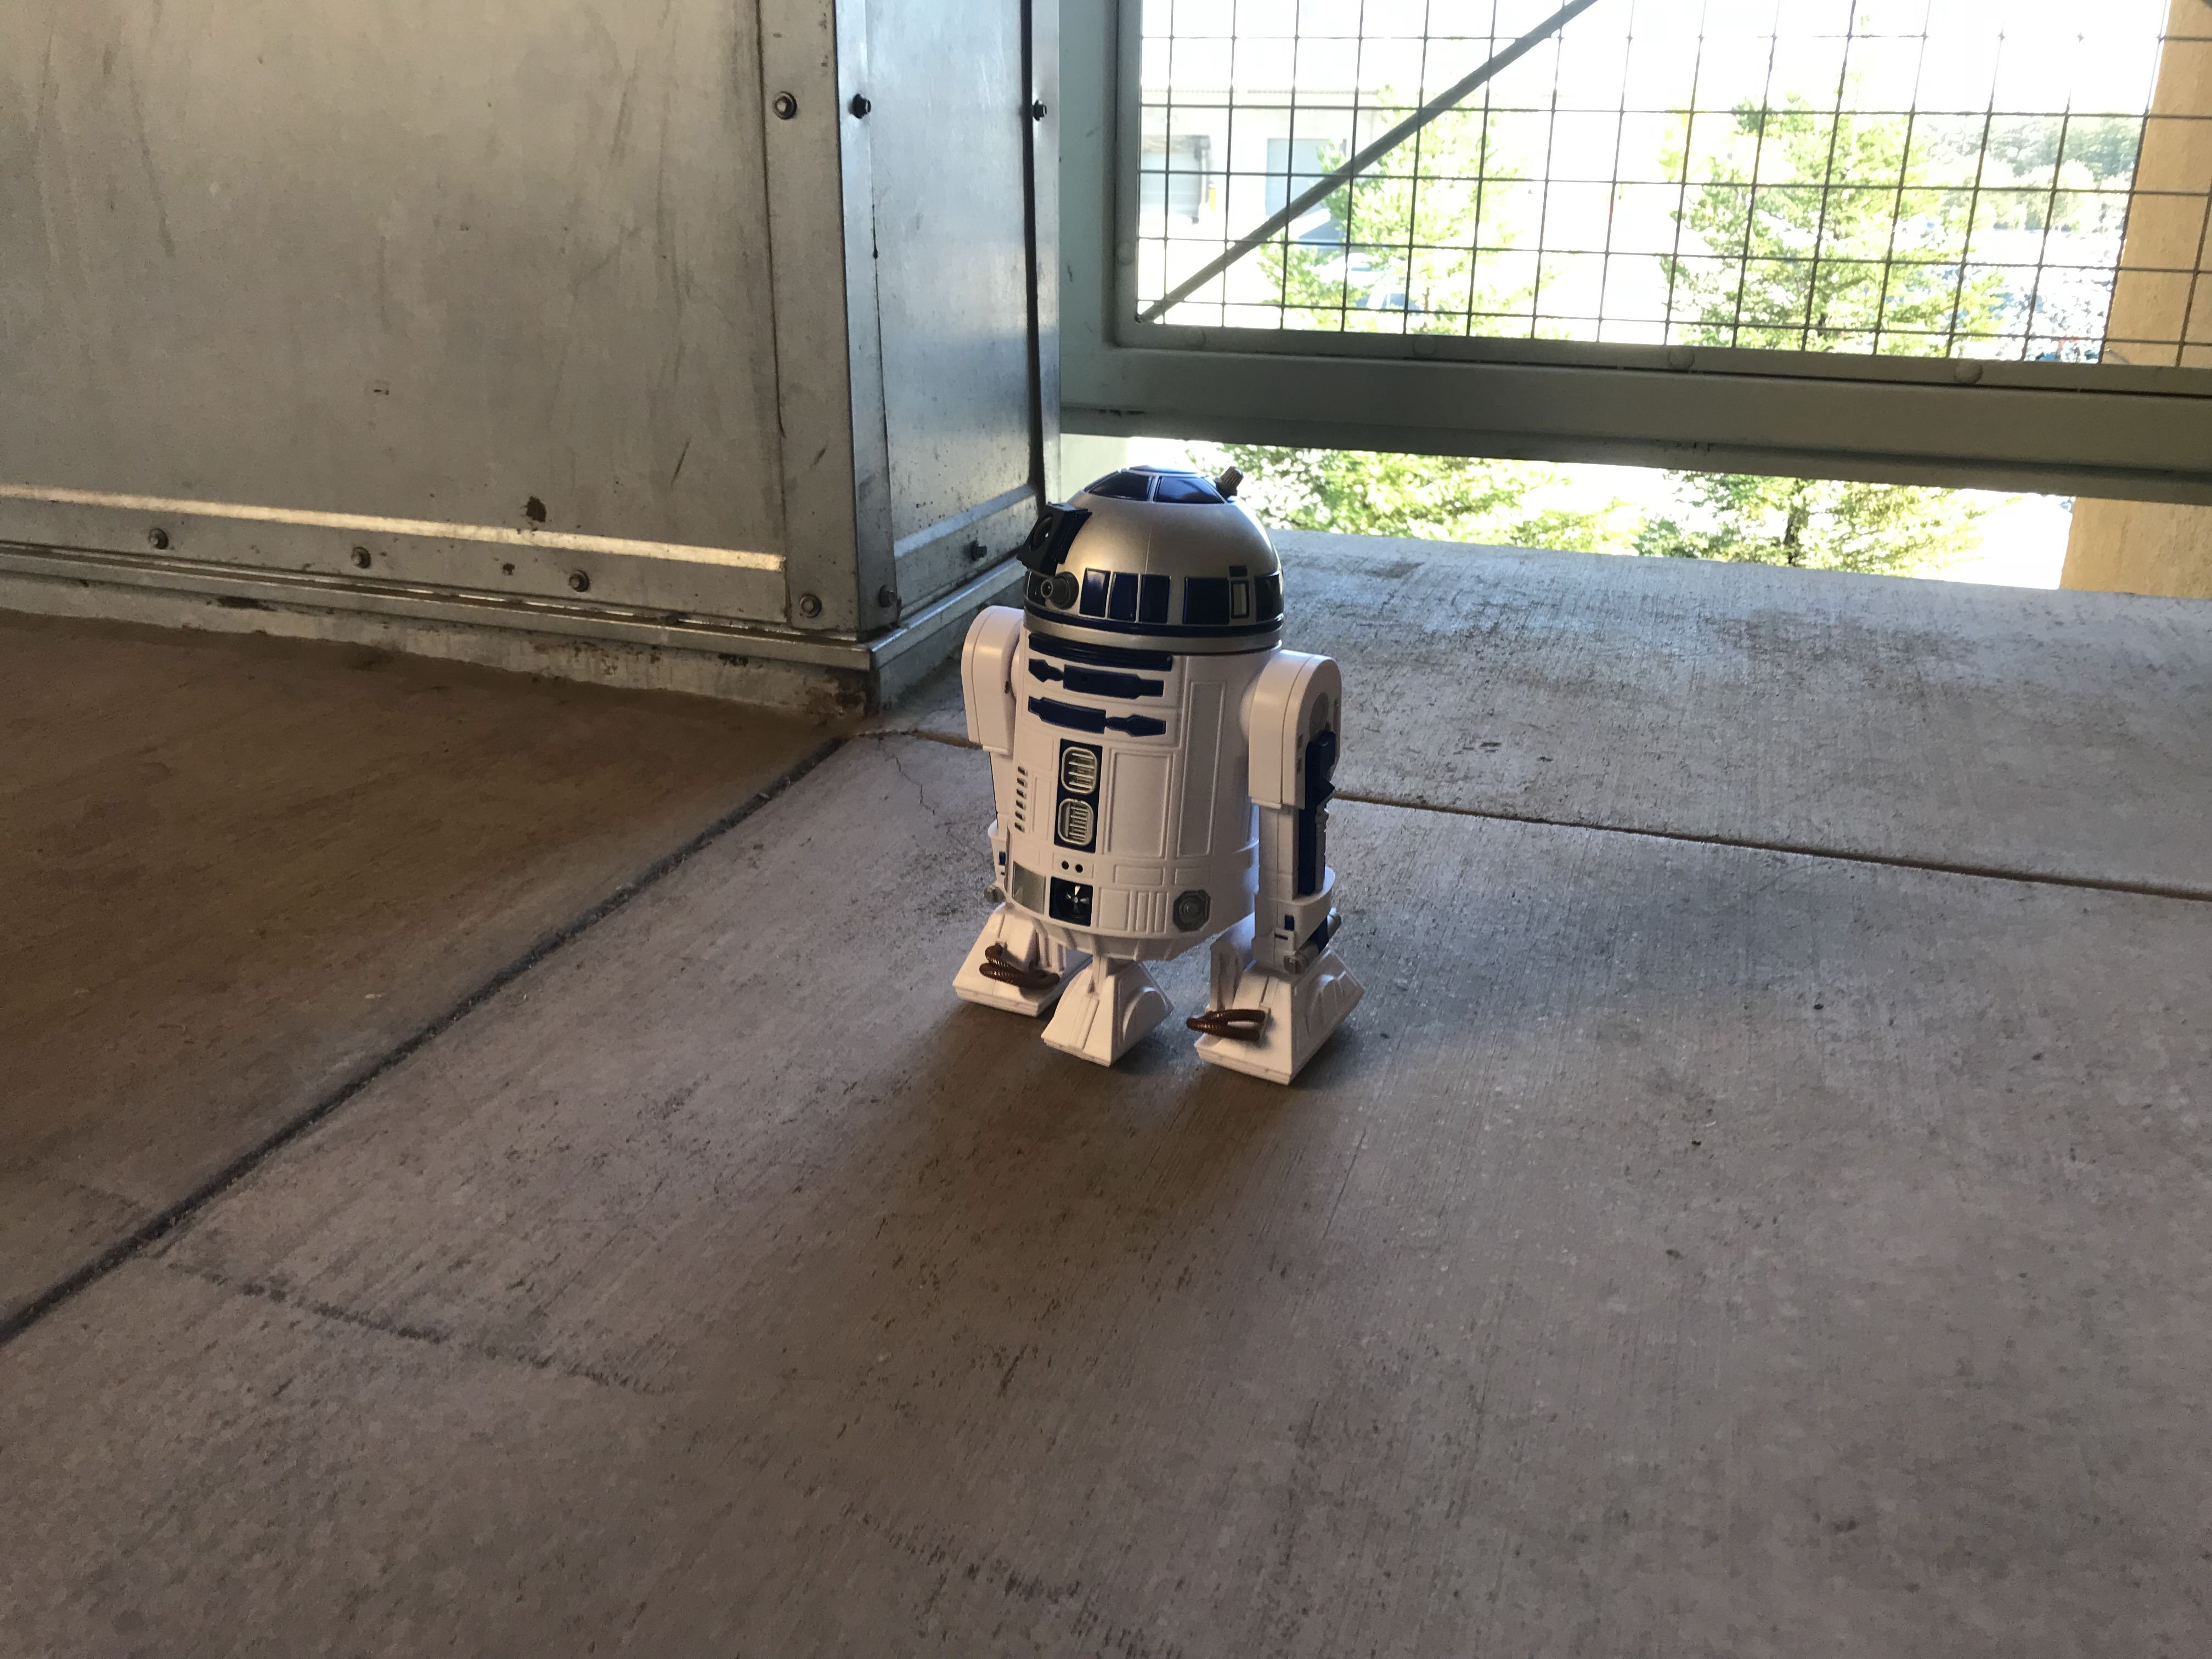r2d2: (951, 467, 1366, 1091)
